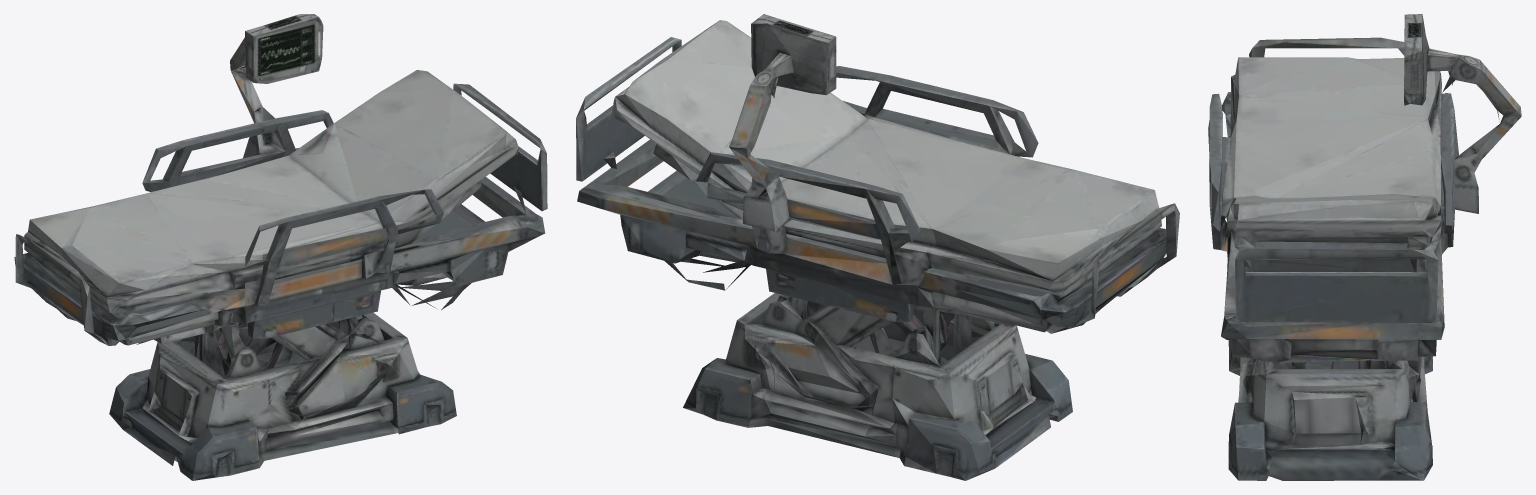
Rendered from medbed.glb.
The picture shows the model from 3 angles, left to right: view 1: azimuth 30°, elevation 25°; view 2: azimuth 150°, elevation 25°; view 3: azimuth 270°, elevation 25°; orthographic projection. The views are drawn at different scales.
Parts seen in each view (by area): view 1: Mesh_0; view 2: Mesh_0; view 3: Mesh_0.
Part boxes in pixels (x1,y1,x2,y2): Mesh_0: (14, 14, 547, 480); Mesh_0: (576, 14, 1179, 480); Mesh_0: (1208, 14, 1521, 480).
Size of the model in its own units: 2.1 by 1.58 by 1.12.
1 material, 1 textured.
